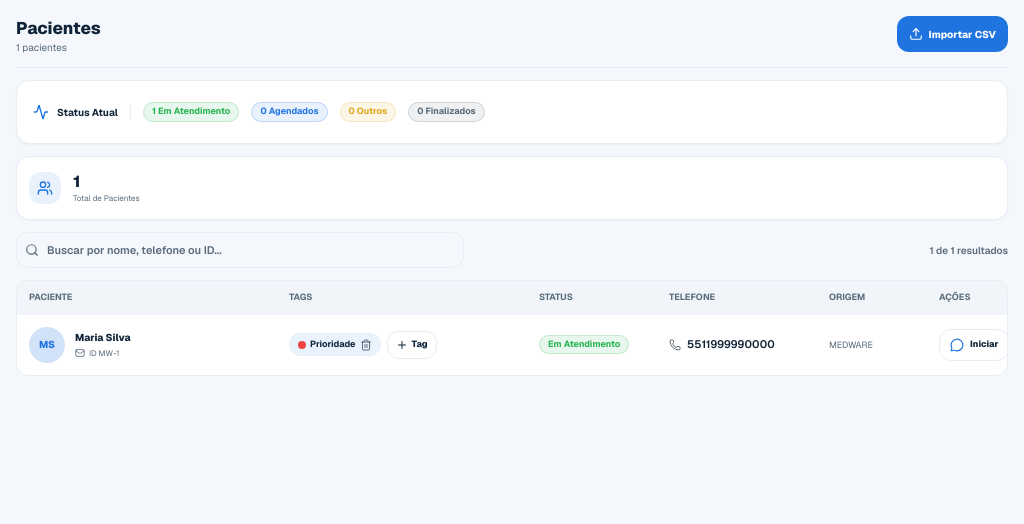
PacientesClient › should_show_search_empty_state_and_keep_tags_actions_after_clearing
Step 1. Type "inexistente" into the search field named "Buscar pacientes" → (251, 250), box [47,242,455,258]
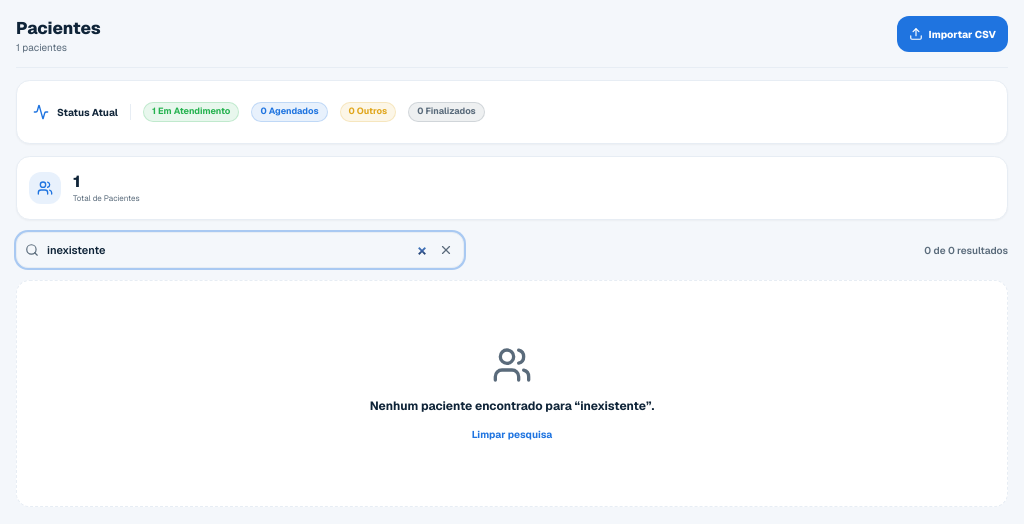
Check: the text "Nenhum paciente encontrado para “inexistente”." is shown, box [370,397,654,415]
Step 2. Click the button "Limpar pesquisa" → click(512, 434), box [472,427,552,442]
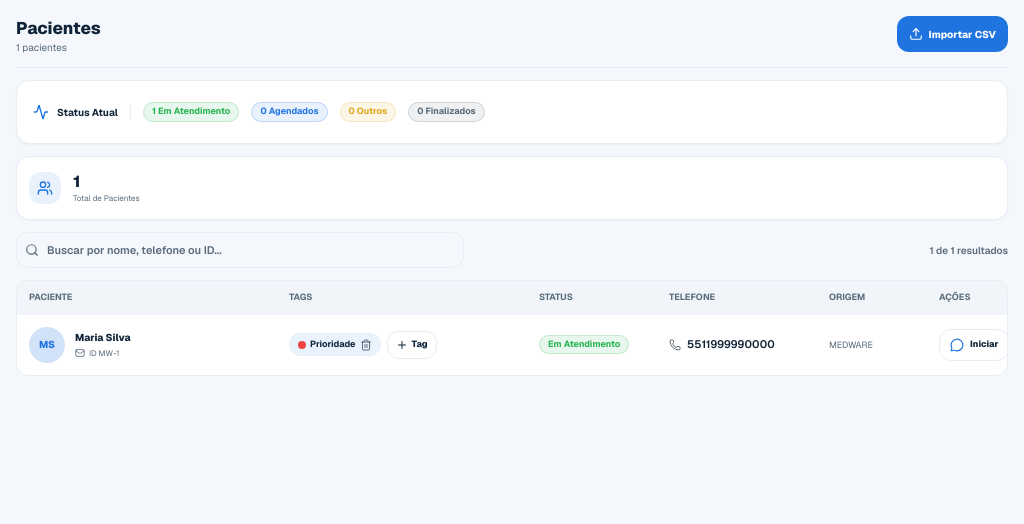
Check: the button with aria-label "Adicionar tag para Maria Silva" is shown, box [386,330,437,358]
